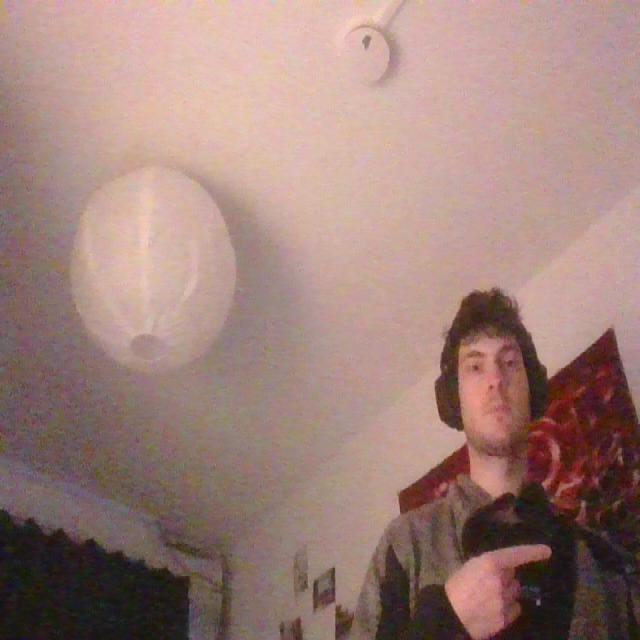right: (438, 537, 550, 639)
